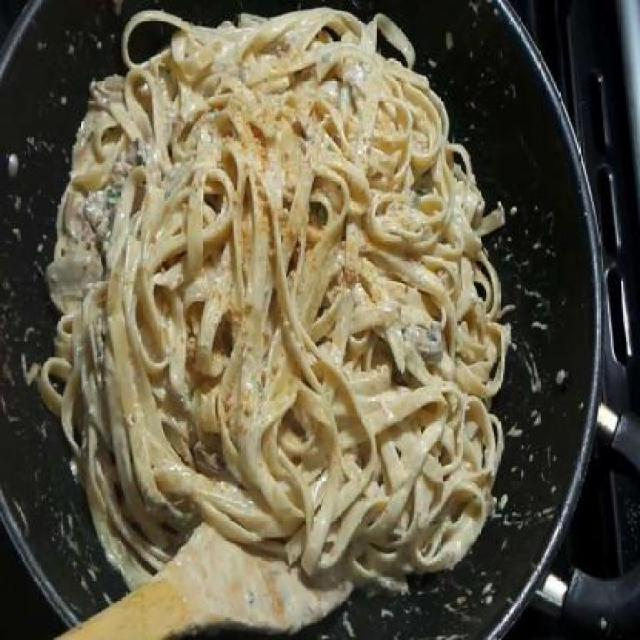Pasta with carbonara sauce: (63, 9, 572, 596)
